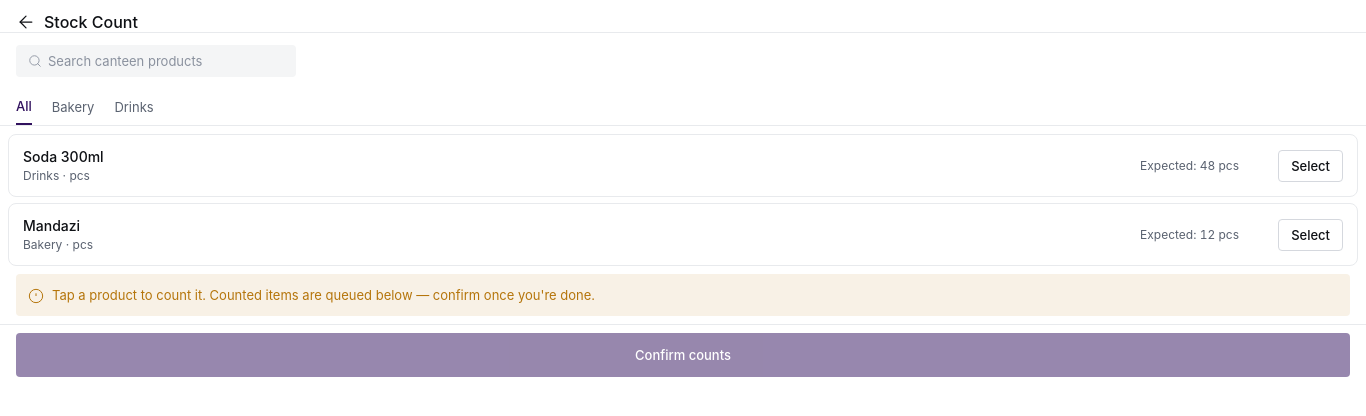
K1 Canteen Stock Count Screen › counting a row above its expected stock blocks the batch submit
Expected: the text "Soda 300ml" is shown, [23,148,104,165]
Click the button "Select" in the row of "48" at (1311, 166), box [1278,150,1343,182]
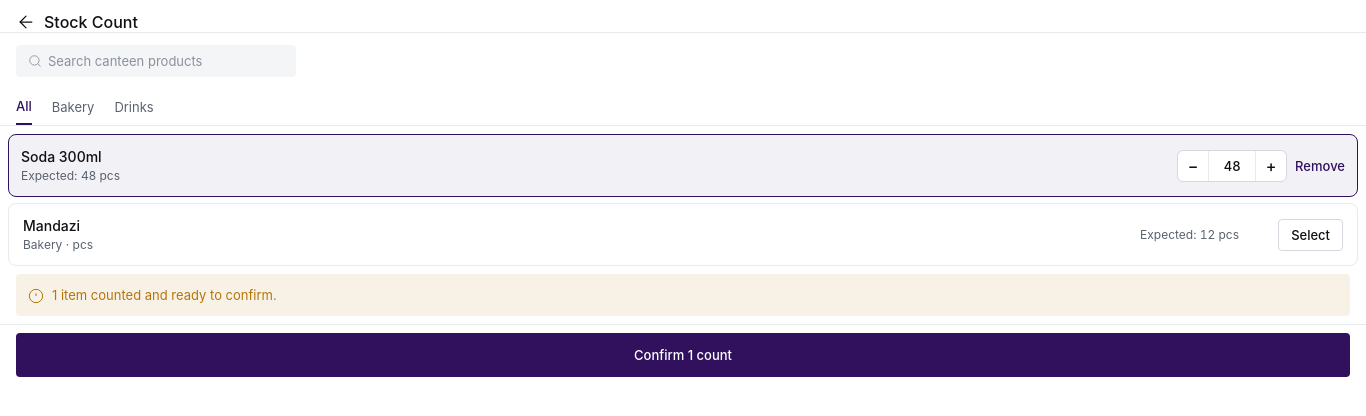
Replace the text in the number field named "Soda 300ml counted quantity" with "999" at (1232, 166), box [1224,158,1240,174]
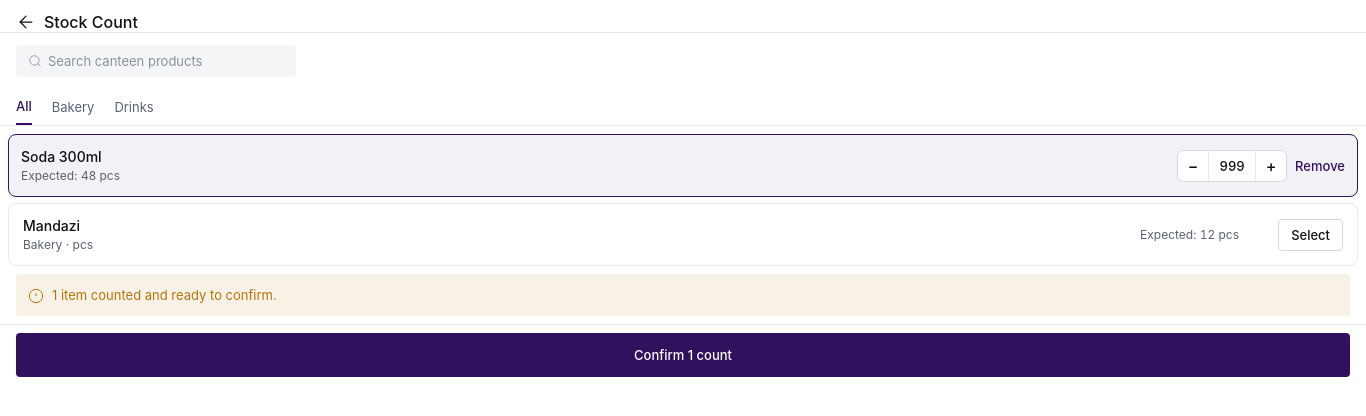
Press Tab
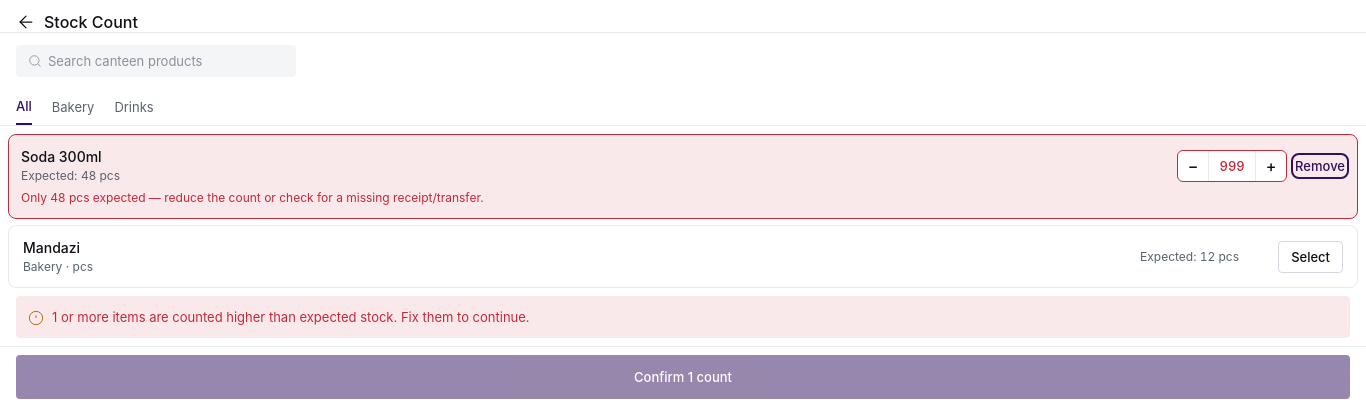
Now the button "Confirm 1 count" is disabled, box [16,355,1350,399]
